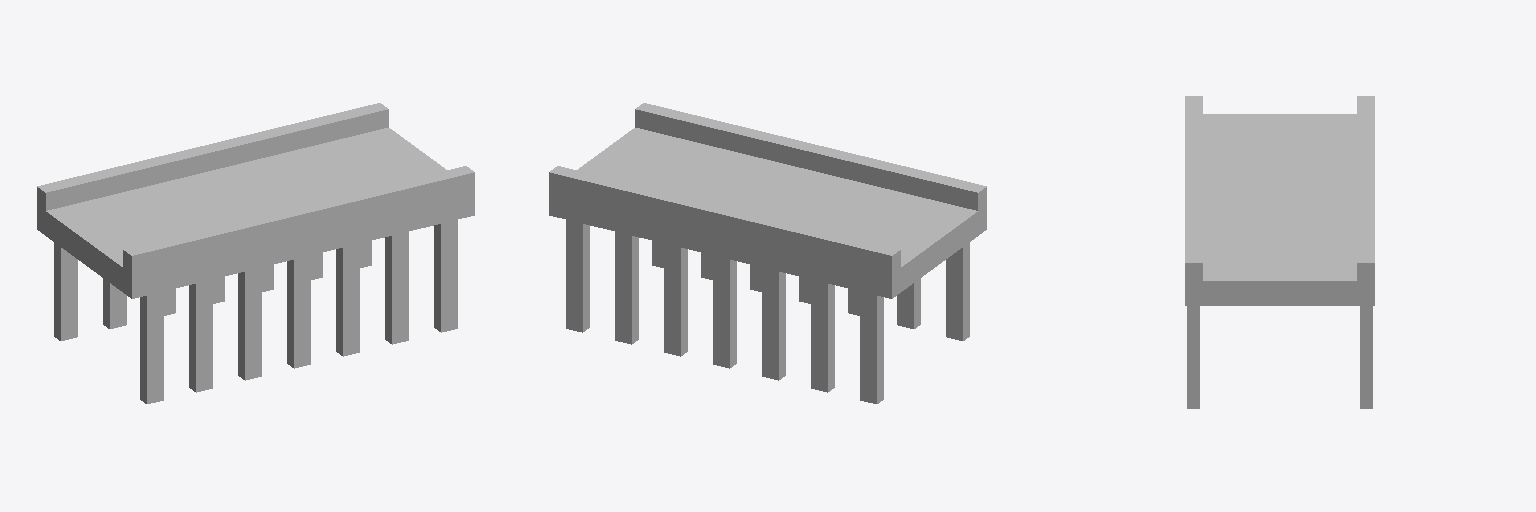
Rendered from bridge.obj.
3 views of the same model, side by side, from view 1: azimuth 30°, elevation 25°; view 2: azimuth 150°, elevation 25°; view 3: azimuth 270°, elevation 25° (orthographic).
Parts seen in each view (by area): view 1: pCube14; view 2: pCube14; view 3: pCube14.
Part boxes in pixels (x1,y1,x2,y2): pCube14: (37,103,474,403); pCube14: (549,103,986,403); pCube14: (1185,96,1374,408).
Bounding box in the file's own units: 2.5 × 1.07 × 1.2.